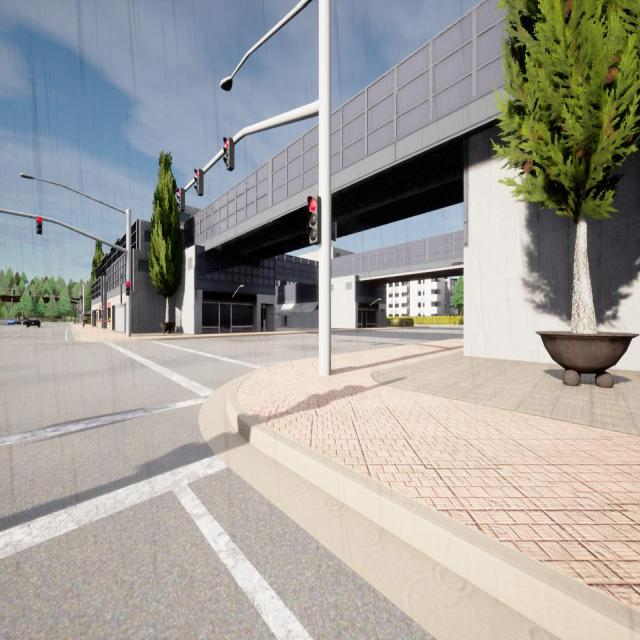Pedestrian: (82, 315, 85, 328)
Vehicle: (27, 317, 40, 327), (7, 319, 16, 326), (15, 318, 21, 326), (23, 319, 28, 326)
traffic_light: (307, 196, 321, 245), (223, 137, 234, 171), (194, 168, 204, 196), (176, 187, 185, 212), (36, 215, 43, 235), (126, 281, 130, 296), (29, 290, 31, 296), (44, 297, 46, 300), (14, 290, 15, 295), (32, 296, 33, 300), (59, 298, 60, 302), (80, 296, 81, 299), (81, 295, 82, 298), (80, 310, 80, 314)
